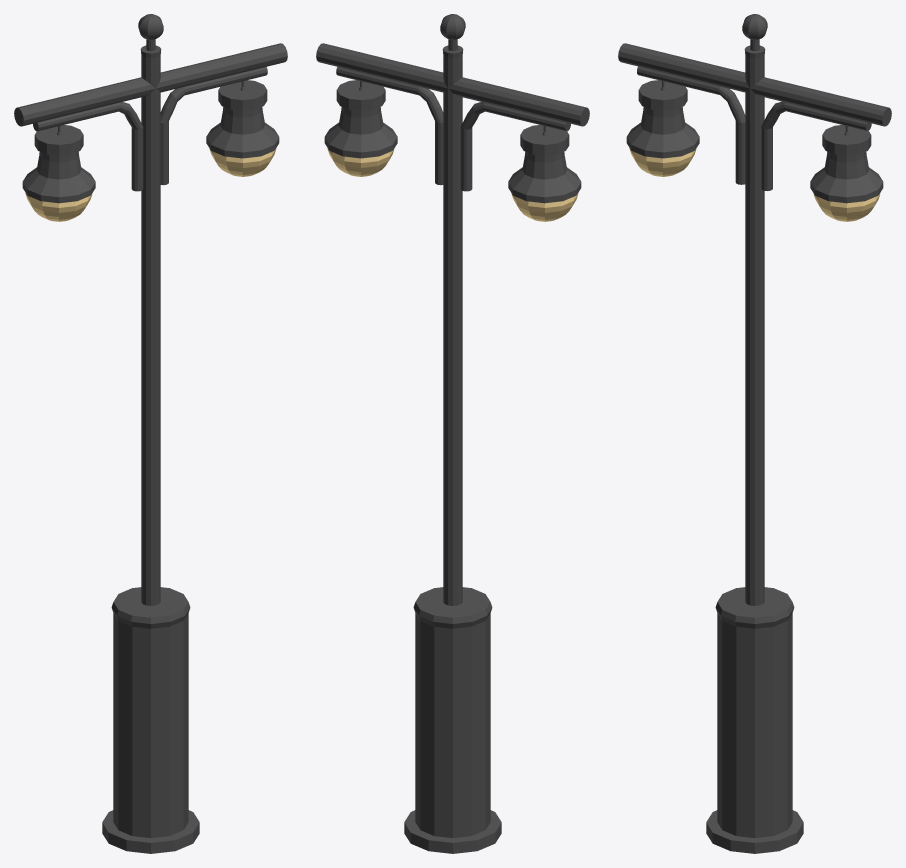
The model's file is streetlamp.glb.
3 renders of one model, left to right at view 1: azimuth 30°, elevation 25°; view 2: azimuth 150°, elevation 25°; view 3: azimuth 330°, elevation 25°, orthographic.
Visible parts, largest first — view 1: Cylinder, Cylinder.004, Cylinder.001, light, Cylinder.002, Cylinder.003, Sphere; view 2: Cylinder, Cylinder.004, Cylinder.001, light, Cylinder.002, Cylinder.003, Sphere; view 3: Cylinder, Cylinder.004, Cylinder.001, light, Cylinder.002, Cylinder.003, Sphere.
Boxes of the visible parts, left/top/right/bottom form: Cylinder: left=102, top=39, right=199, bottom=853; Cylinder.004: left=22, top=80, right=279, bottom=203; Cylinder.001: left=14, top=43, right=287, bottom=126; light: left=25, top=148, right=276, bottom=221; Cylinder.002: left=33, top=102, right=143, bottom=191; Cylinder.003: left=160, top=67, right=267, bottom=185; Sphere: left=138, top=14, right=163, bottom=40; Cylinder: left=404, top=39, right=501, bottom=853; Cylinder.004: left=324, top=80, right=581, bottom=203; Cylinder.001: left=316, top=43, right=589, bottom=126; light: left=327, top=148, right=578, bottom=221; Cylinder.002: left=460, top=102, right=570, bottom=191; Cylinder.003: left=336, top=67, right=443, bottom=185; Sphere: left=440, top=14, right=465, bottom=40; Cylinder: left=706, top=39, right=803, bottom=853; Cylinder.004: left=626, top=80, right=883, bottom=203; Cylinder.001: left=618, top=43, right=891, bottom=126; light: left=629, top=148, right=880, bottom=221; Cylinder.002: left=637, top=66, right=745, bottom=184; Cylinder.003: left=761, top=101, right=871, bottom=190; Sphere: left=742, top=14, right=767, bottom=40.
Bounding box in the file's own units: 2.5 × 7.4 × 0.8.
